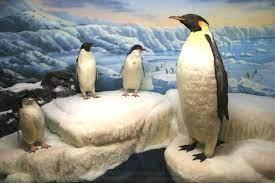emporer: (164, 7, 235, 161), (11, 86, 54, 154), (66, 34, 102, 100), (118, 42, 154, 102)
